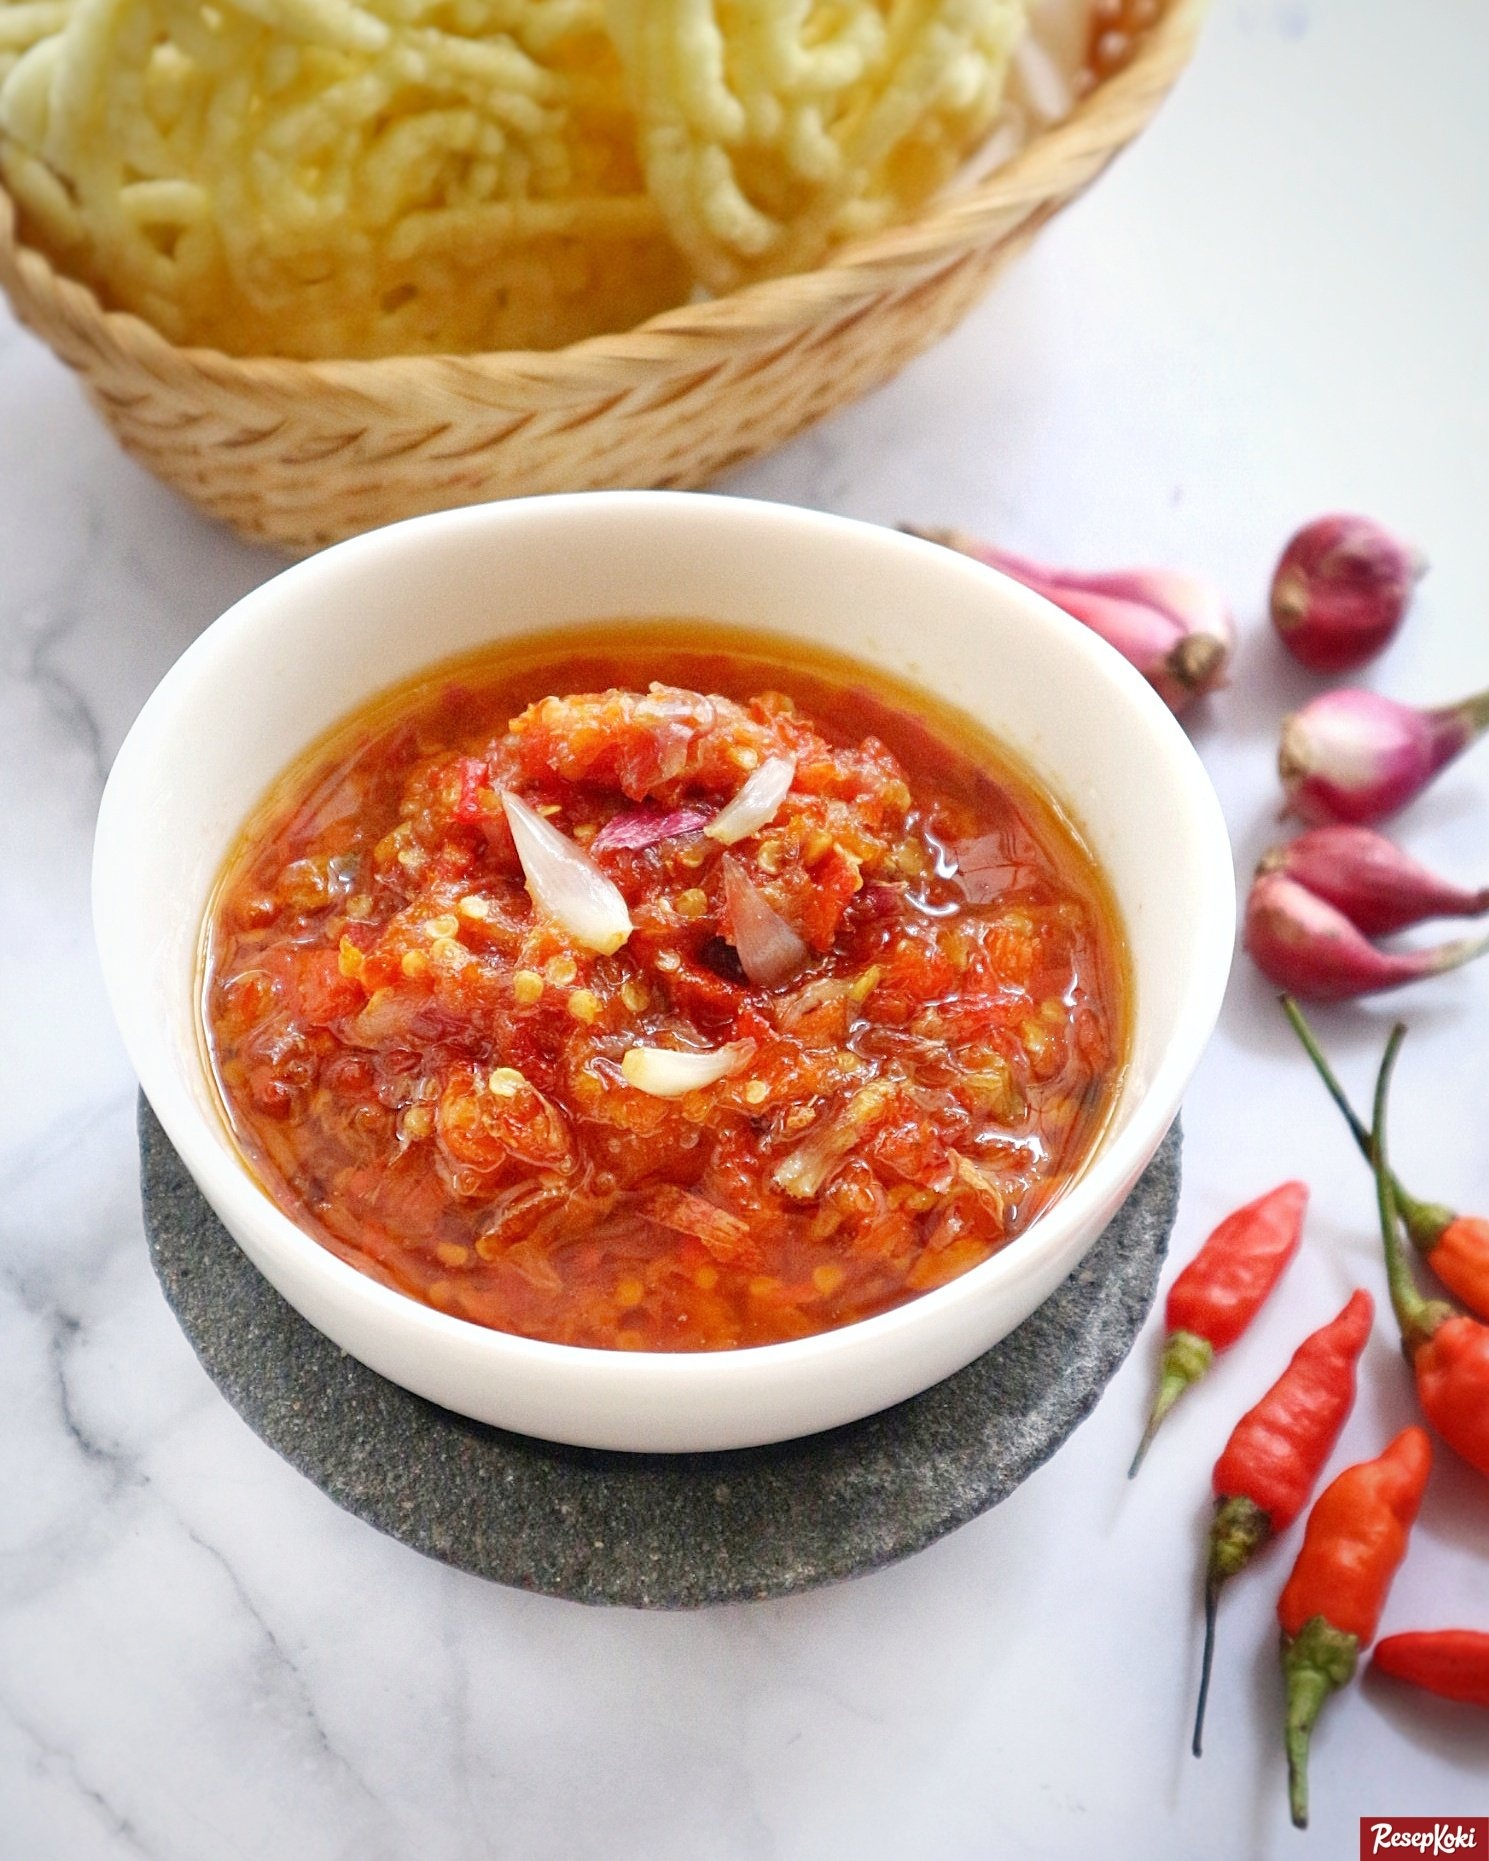sambal: (229, 656, 1091, 1269)
